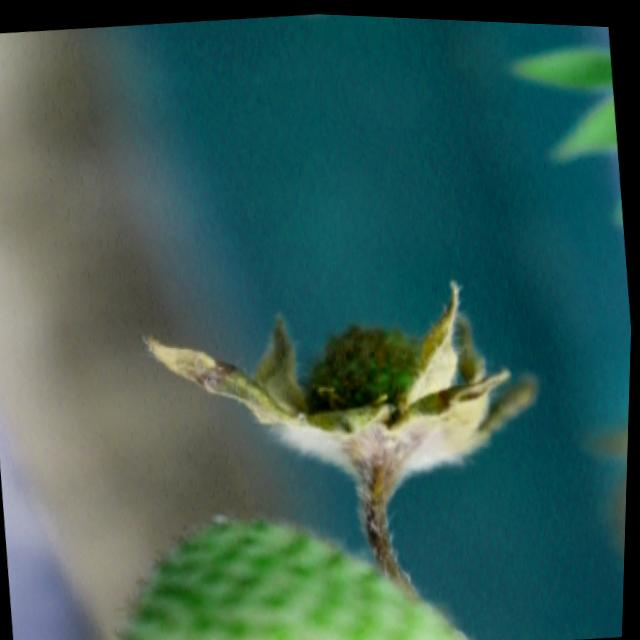Gray Mold: (144, 273, 538, 583)
